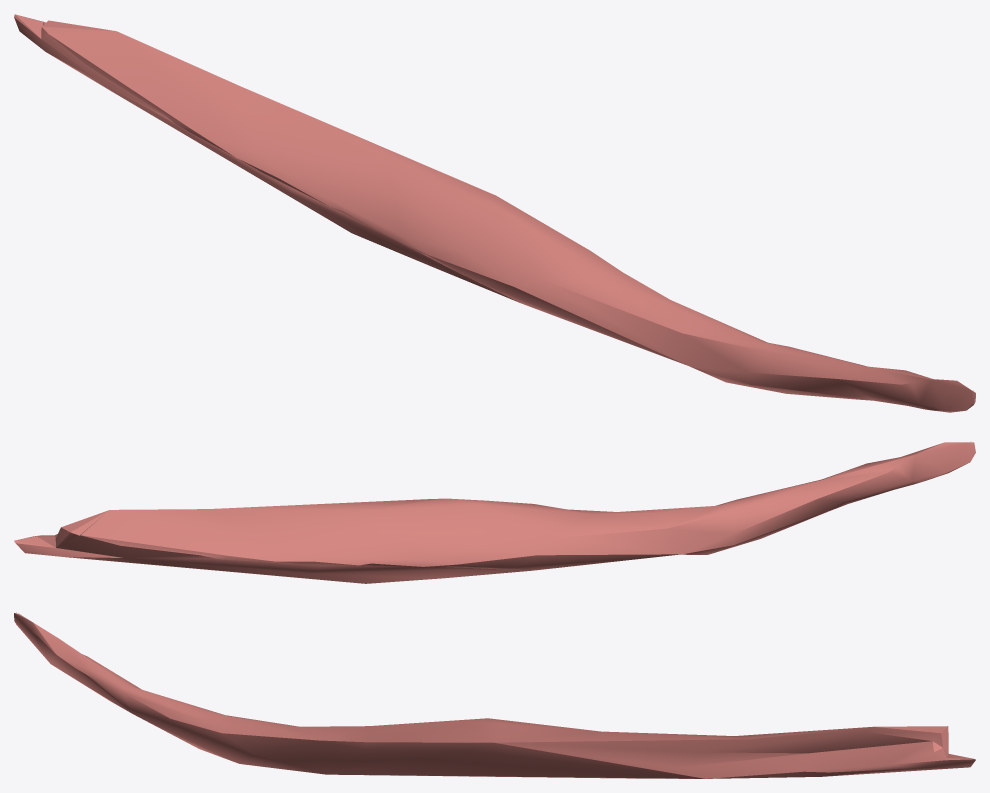
File: fma37719_fj1385.glb
3 views of the same model, one above another, from view 1: azimuth 90°, elevation 25°; view 2: azimuth 150°, elevation 25°; view 3: azimuth 270°, elevation 25° (orthographic). The views are drawn at different scales.
Visible parts, largest first — view 1: FMA37719_FJ1385; view 2: FMA37719_FJ1385; view 3: FMA37719_FJ1385.
Part boxes in pixels (x1,y1,x2,y2): FMA37719_FJ1385: (14,14,975,412); FMA37719_FJ1385: (14,442,975,583); FMA37719_FJ1385: (14,612,975,778).
Size of the model in its own units: 0.0407 by 0.0142 by 0.0626.
